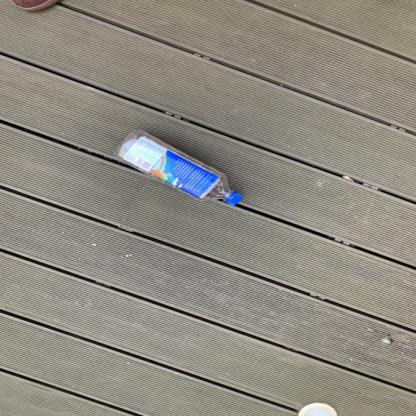trash: (112, 128, 246, 209)
